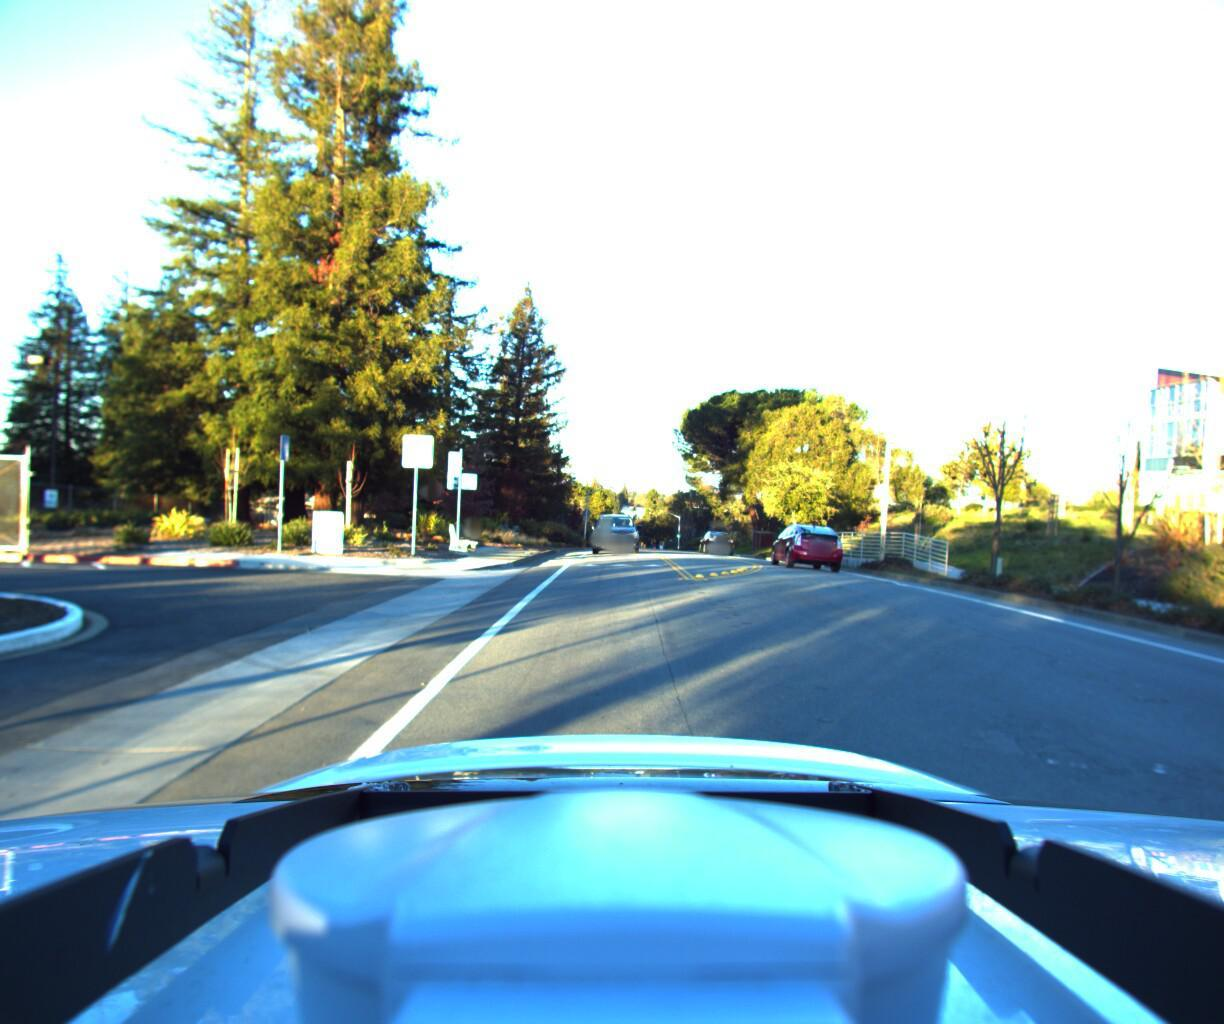car: (1202, 526, 1224, 1024), (759, 515, 839, 571), (586, 509, 640, 559), (695, 527, 733, 555)
